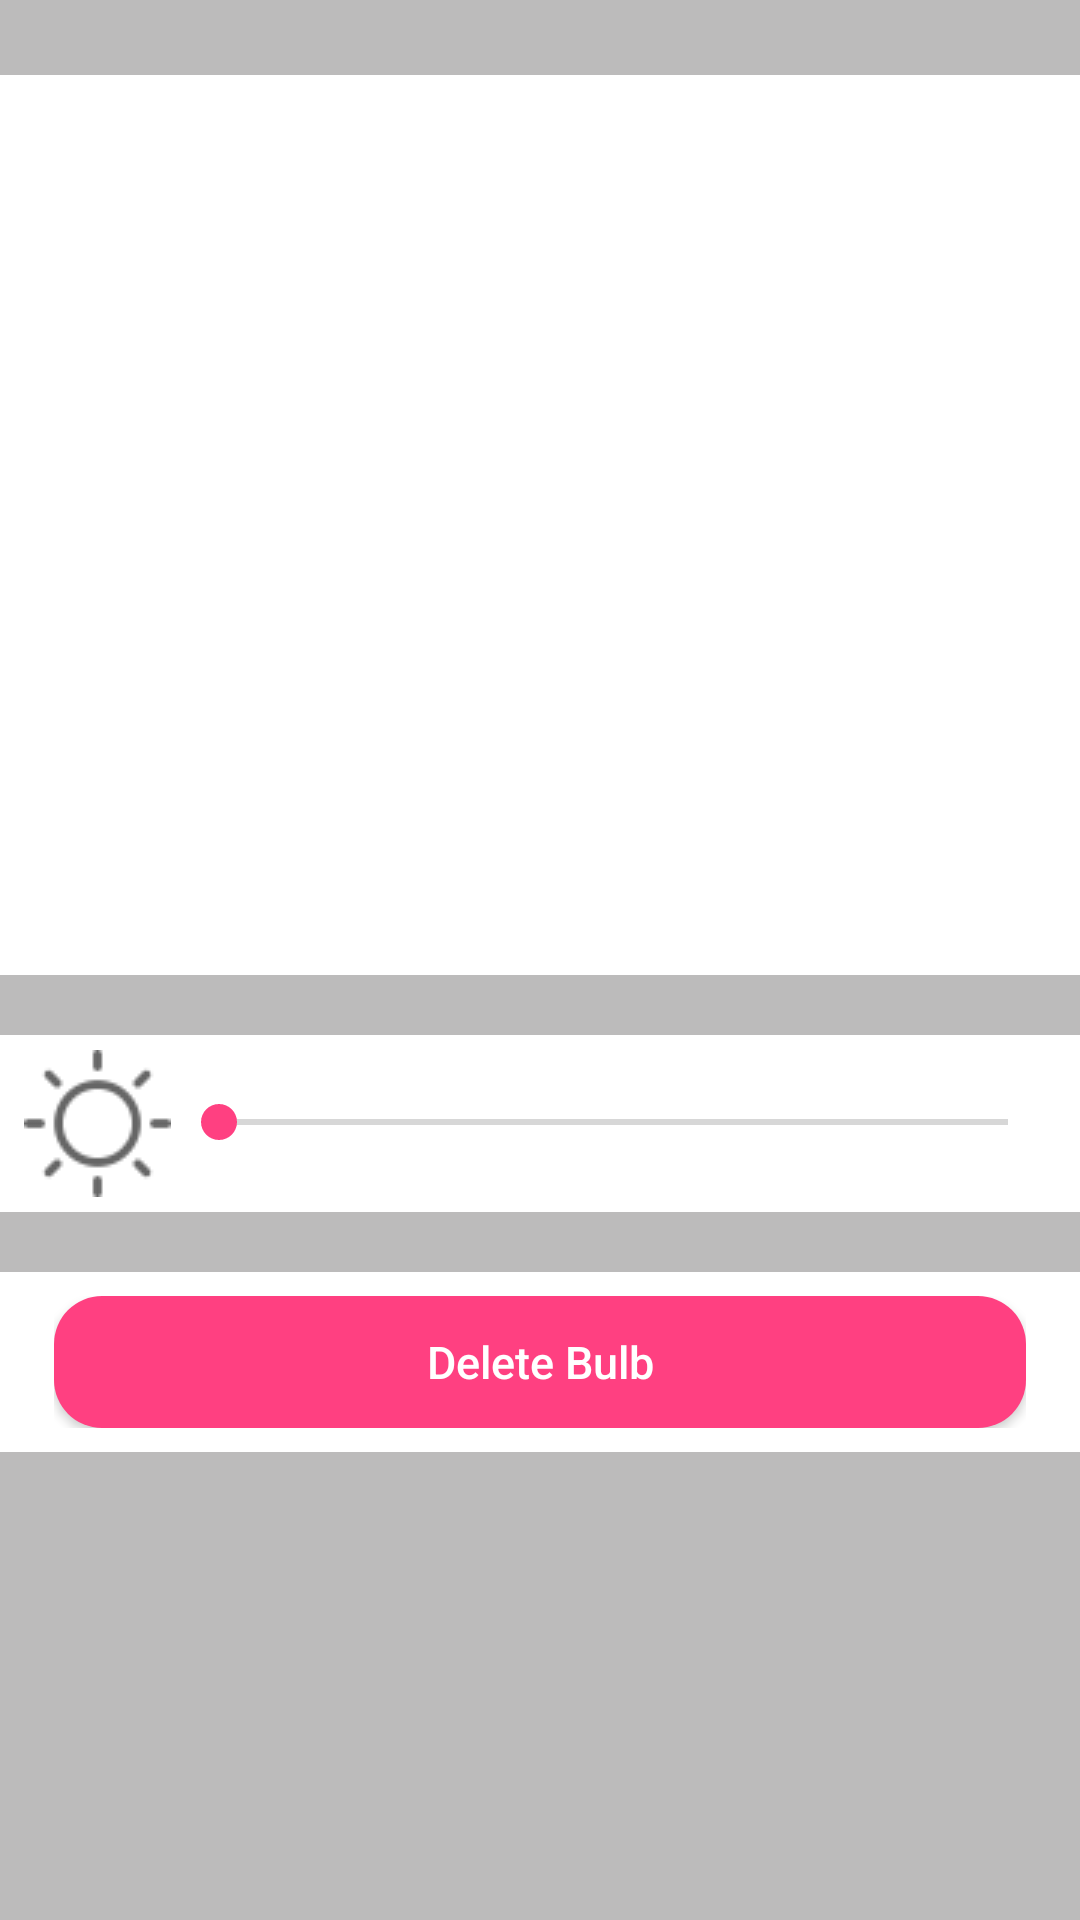

Where icons sit on this 1080x1920 app screen, as [x1,y1,x2,y2]:
brightness: [24,1050,171,1197]
